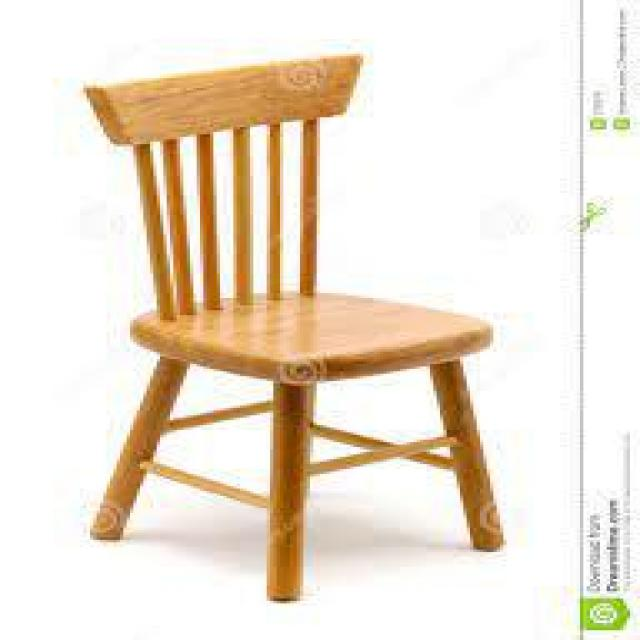chair: (50, 29, 537, 598)
